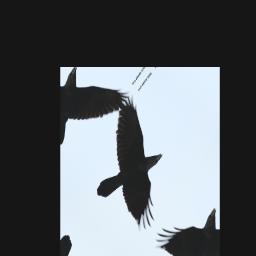Crow: (74, 94, 198, 241)
